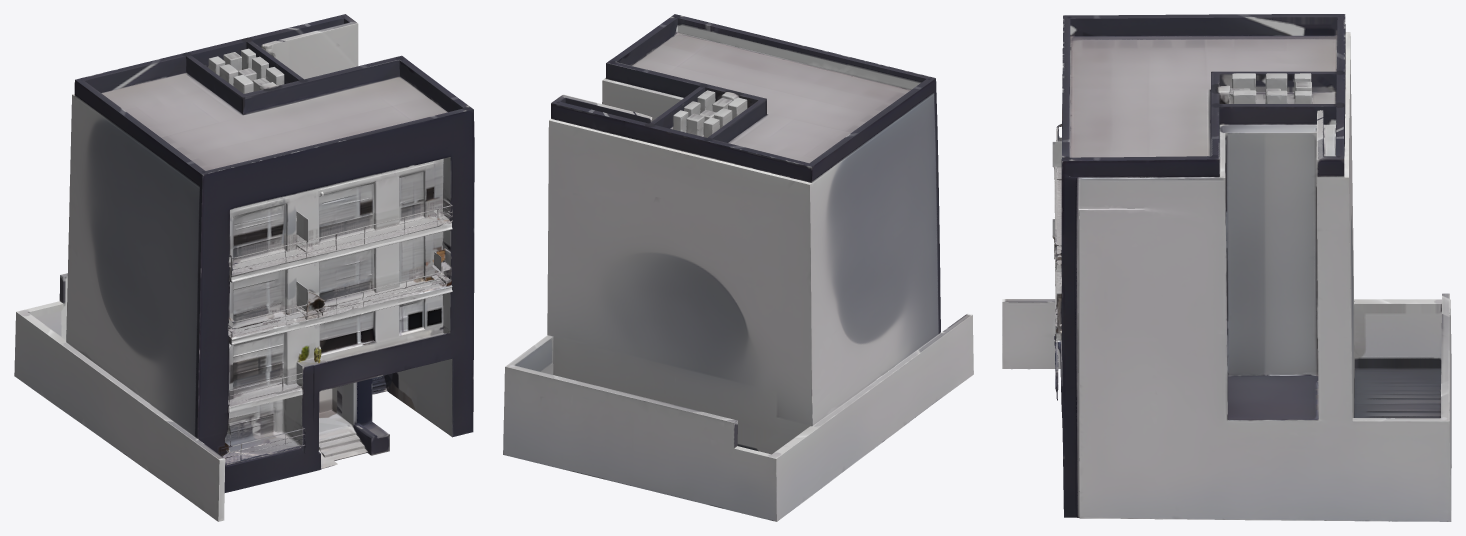
The model's file is contemporary_residential_building_-.glb.
3 renders of one model, left to right at view 1: azimuth 30°, elevation 25°; view 2: azimuth 150°, elevation 25°; view 3: azimuth 270°, elevation 25°, orthographic. The views are drawn at different scales.
Visible parts, largest first — view 1: Object_3, Object_4, Object_2; view 2: Object_3, Object_4, Object_2; view 3: Object_3, Object_4, Object_2.
Boxes of the visible parts, left/top/right/bottom form: Object_3: left=28, top=14, right=474, bottom=484; Object_4: left=14, top=18, right=452, bottom=521; Object_2: left=23, top=42, right=467, bottom=479; Object_3: left=503, top=14, right=931, bottom=521; Object_4: left=503, top=18, right=973, bottom=521; Object_2: left=551, top=39, right=960, bottom=488; Object_3: left=1054, top=14, right=1451, bottom=521; Object_4: left=1002, top=14, right=1451, bottom=474; Object_2: left=1009, top=35, right=1433, bottom=509.
Bounding box in the file's own units: 1.53 × 1.71 × 1.9.
1 material, 1 textured.
